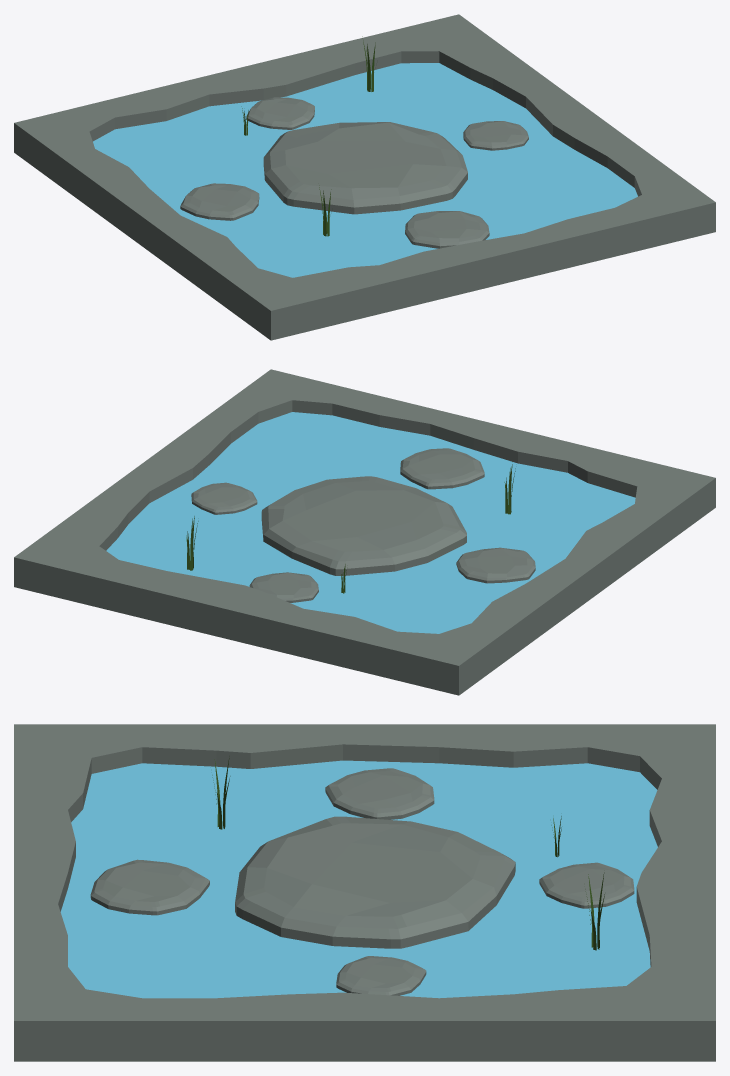
The model's file is ModelPanelBlock_Isinoike.fbx.
3 views of the same model, one above another, from view 1: azimuth 30°, elevation 25°; view 2: azimuth 150°, elevation 25°; view 3: azimuth 270°, elevation 25° (orthographic). The views are drawn at different scales.
Parts seen in each view (by area): view 1: PanelBlock_isinoike; view 2: PanelBlock_isinoike; view 3: PanelBlock_isinoike.
Part boxes in pixels (x1,y1,x2,y2): PanelBlock_isinoike: (14, 14, 715, 340); PanelBlock_isinoike: (14, 369, 715, 695); PanelBlock_isinoike: (14, 724, 715, 1061).
Bounding box in the file's own units: 4 × 0.6302 × 4.
